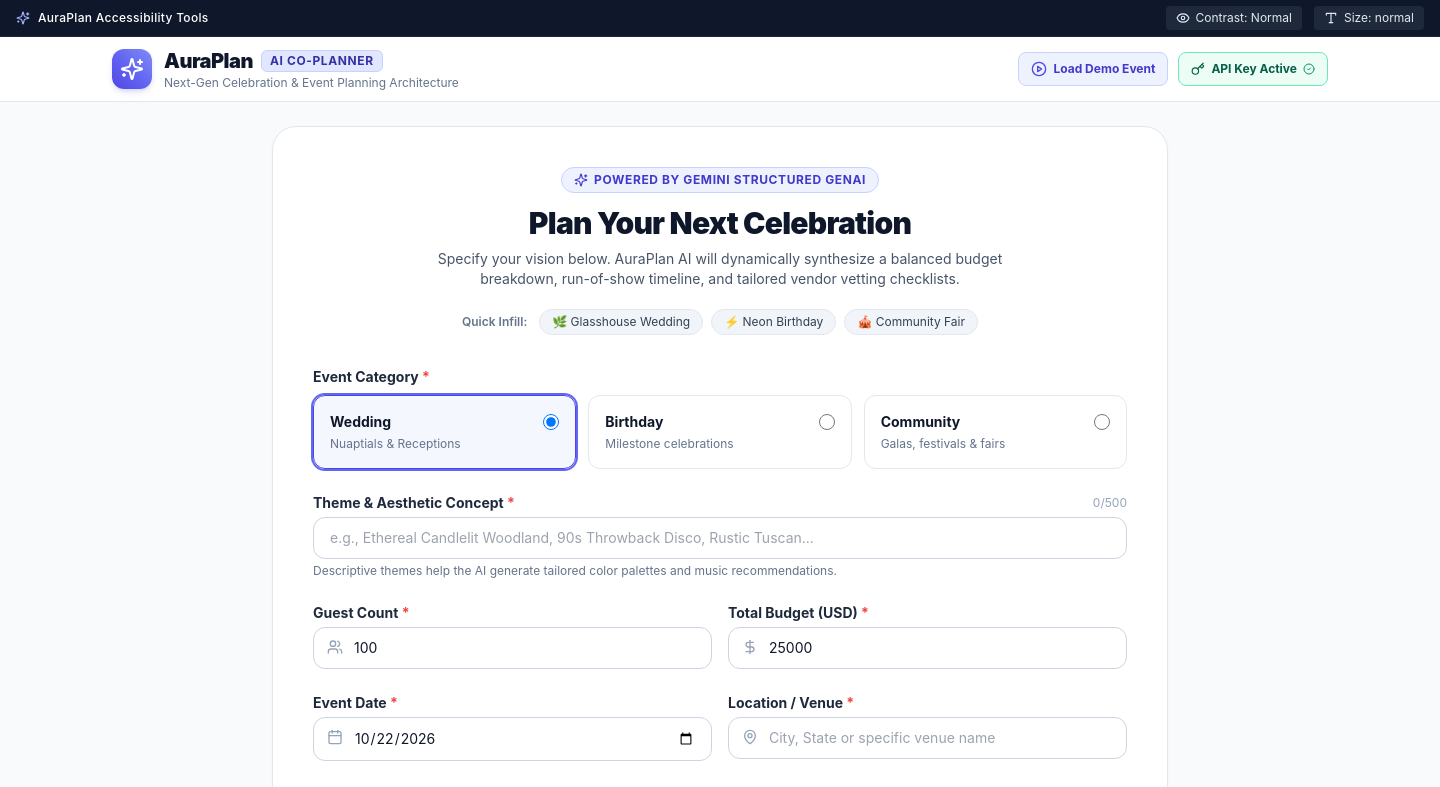
Test: App Component Integration & A11y › loads the rich demo event and transitions seamlessly to the dashboard
Note: Click "Load Demo Event"
Click the button "Load Demo Event": (1093, 69) [1018,52,1168,86]
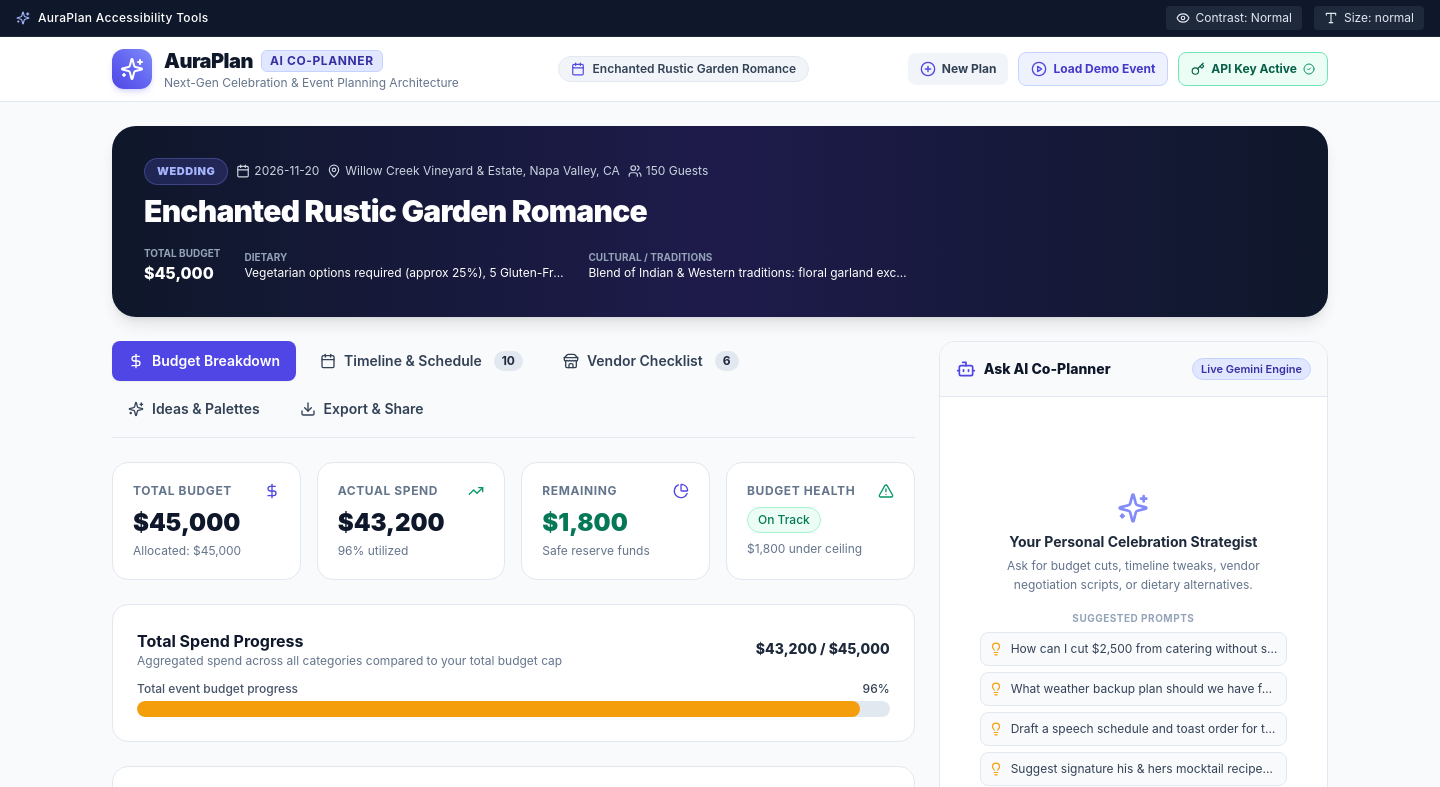
Expected: the heading "Enchanted Rustic Garden Romance" is shown, [144,192,647,228]
Expected: the element named "event planning dashboard sections" is shown, [112,340,915,438]
